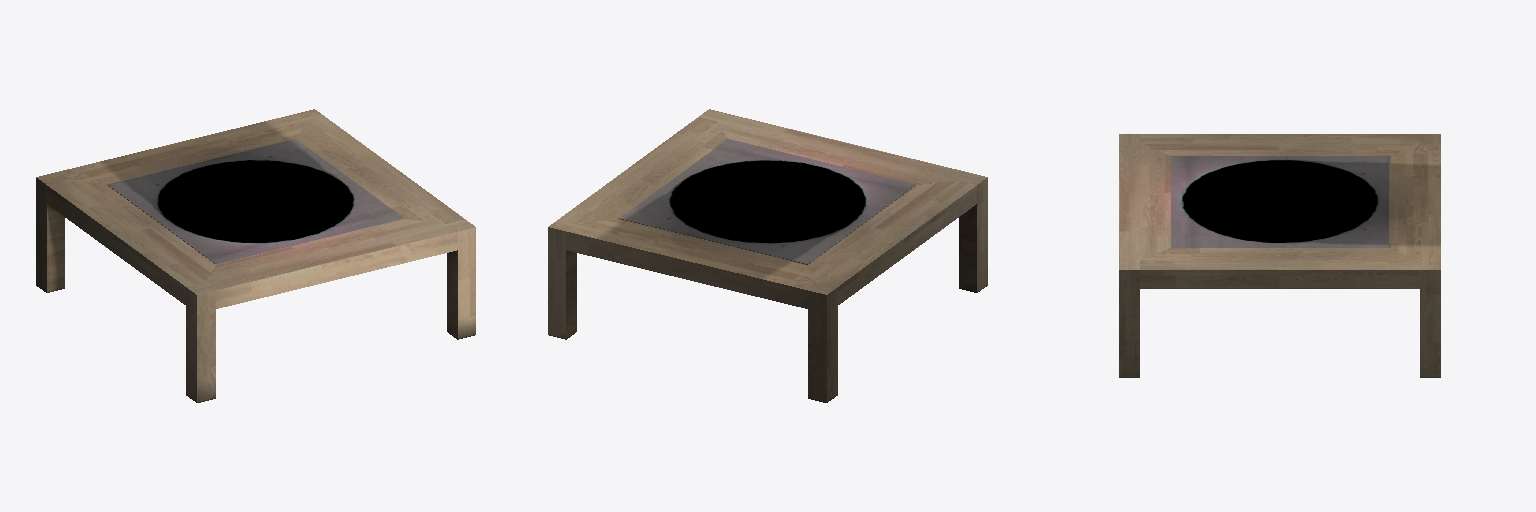
The picture shows the model from 3 angles: view 1: azimuth 30°, elevation 25°; view 2: azimuth 150°, elevation 25°; view 3: azimuth 270°, elevation 25°; orthographic projection.
Visible parts, largest first — view 1: TABLE1; view 2: TABLE1; view 3: TABLE1.
Part boxes in pixels (x1,y1,x2,y2): TABLE1: (36, 109, 475, 402); TABLE1: (548, 109, 987, 402); TABLE1: (1119, 134, 1440, 377).
Size of the model in its own units: 1.67 by 0.6208 by 1.67.
Materials: 1 (1 with a texture image).